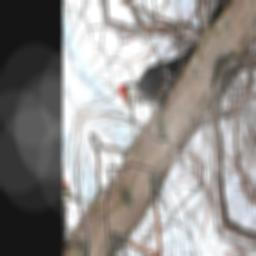Woodpecker: (114, 0, 205, 140)
